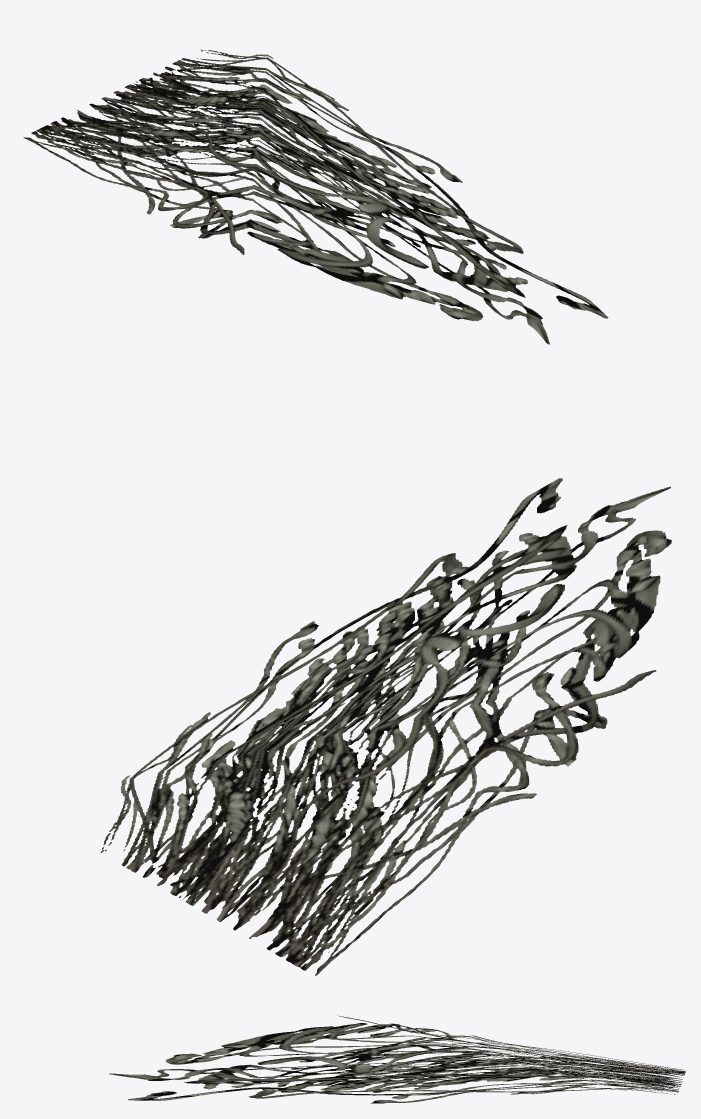
Rendered from MEP_HangingPlant_01_S.fbx.
3 renders of one model, top to bottom at view 1: azimuth 30°, elevation 25°; view 2: azimuth 150°, elevation 25°; view 3: azimuth 270°, elevation 25°, orthographic. The views are drawn at different scales.
Visible parts, largest first — view 1: MEP_HangingPlant_01; view 2: MEP_HangingPlant_01; view 3: MEP_HangingPlant_01.
Part boxes in pixels (box(x1,y1,x2,y2)): MEP_HangingPlant_01: box(23, 49, 608, 344); MEP_HangingPlant_01: box(100, 478, 671, 975); MEP_HangingPlant_01: box(109, 1015, 685, 1103).
Size of the model in its own units: 0.4278 by 0.1076 by 1.26.
